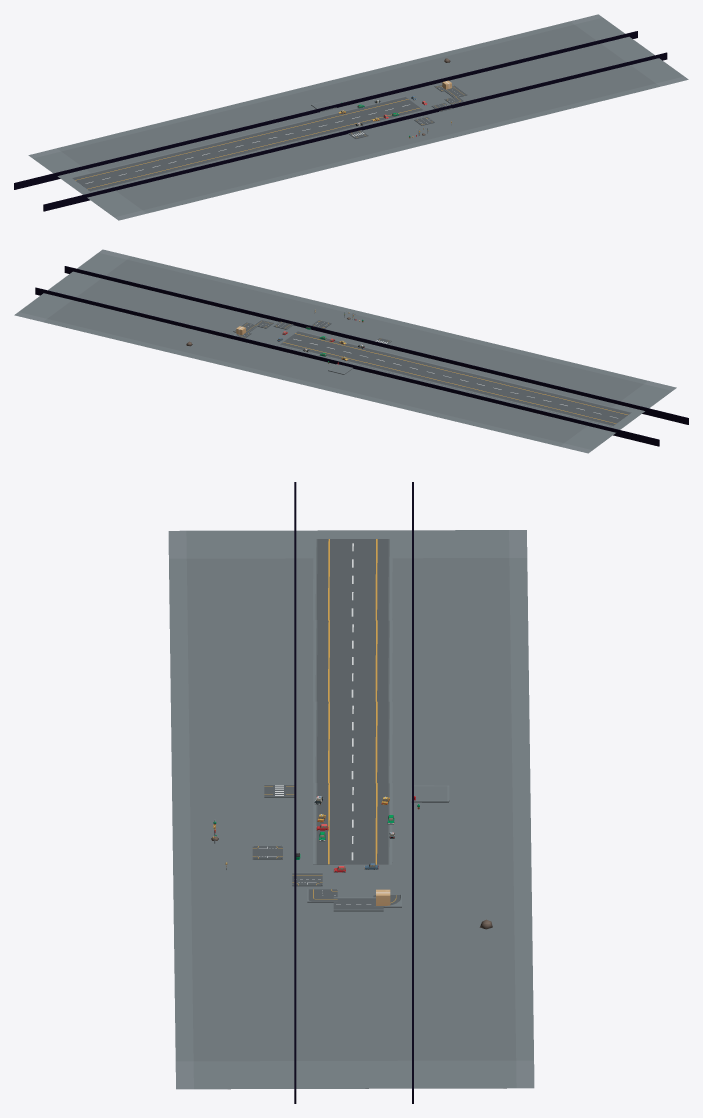
Rendered from world3_small2.gltf.
The picture shows the model from 3 angles, top to bottom: view 1: azimuth 30°, elevation 25°; view 2: azimuth 150°, elevation 25°; view 3: azimuth 270°, elevation 25°; orthographic projection. The views are drawn at different scales.
Parts seen in each view (by area): view 1: build_ground.022, building_world_wall.002, building_world_wall.003, road_straight.004, road_straight.003, road_straight.005, road_straight.001; view 2: build_ground.022, building_world_wall.003, building_world_wall.002, road_straight.004, road_straight.003, road_straight.005, road_straight.001; view 3: build_ground.022, road_straight.003, road_straight.004, road_straight.005, road_straight.001, building_world_wall.002, building_world_wall.003.
Part boxes in pixels (box(x1,y1,x2,y2)): build_ground.022: box(28, 14, 688, 220); building_world_wall.002: box(43, 52, 667, 211); building_world_wall.003: box(14, 31, 637, 189); road_straight.004: box(154, 137, 257, 171); road_straight.003: box(238, 116, 340, 151); road_straight.005: box(71, 157, 174, 191); road_straight.001: box(321, 96, 424, 130); build_ground.022: box(14, 249, 676, 453); building_world_wall.003: box(35, 287, 659, 446); building_world_wall.002: box(64, 266, 688, 424); road_straight.004: box(446, 371, 548, 406); road_straight.003: box(363, 351, 465, 385); road_straight.005: box(529, 391, 631, 426); road_straight.001: box(279, 330, 381, 365); build_ground.022: box(168, 530, 534, 1089); road_straight.003: box(313, 701, 392, 783); road_straight.004: box(313, 620, 392, 701); road_straight.005: box(313, 539, 392, 620); road_straight.001: box(313, 783, 392, 864); building_world_wall.002: box(294, 482, 296, 1103); building_world_wall.003: box(412, 482, 413, 1103).
Bounding box in the file's own units: 1537 × 24.17 × 391.
29 materials, 28 textured.
